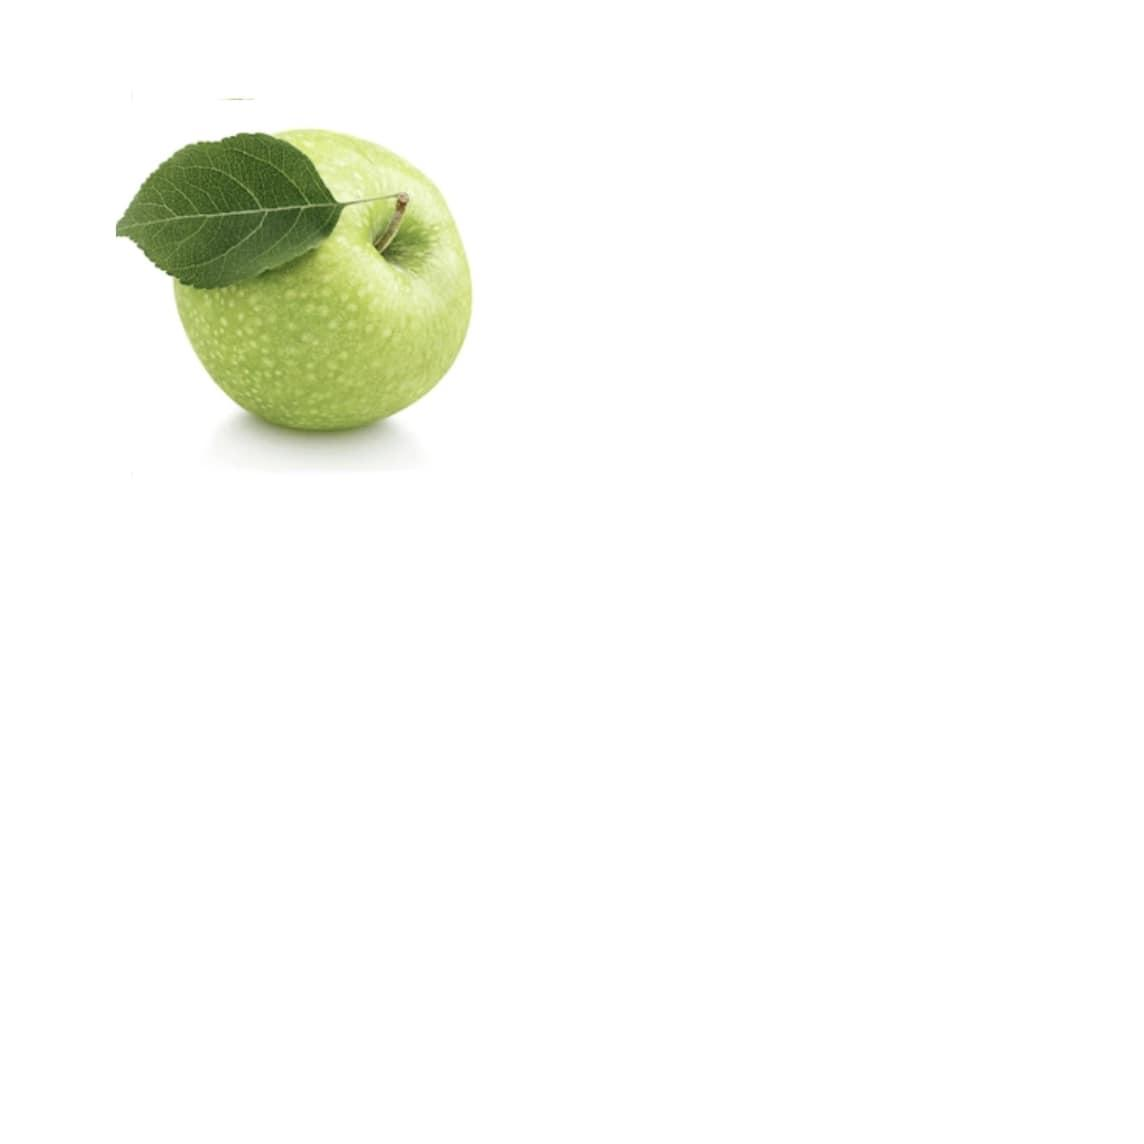Apple: (171, 127, 475, 430)
